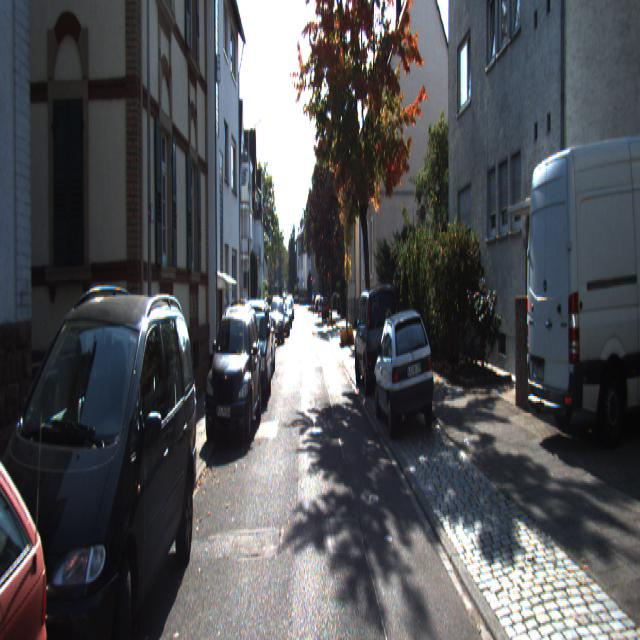Car: (0, 273, 205, 638), (520, 115, 640, 453), (0, 380, 78, 639), (202, 296, 262, 452), (372, 306, 440, 440), (352, 280, 401, 394), (237, 297, 272, 408)
